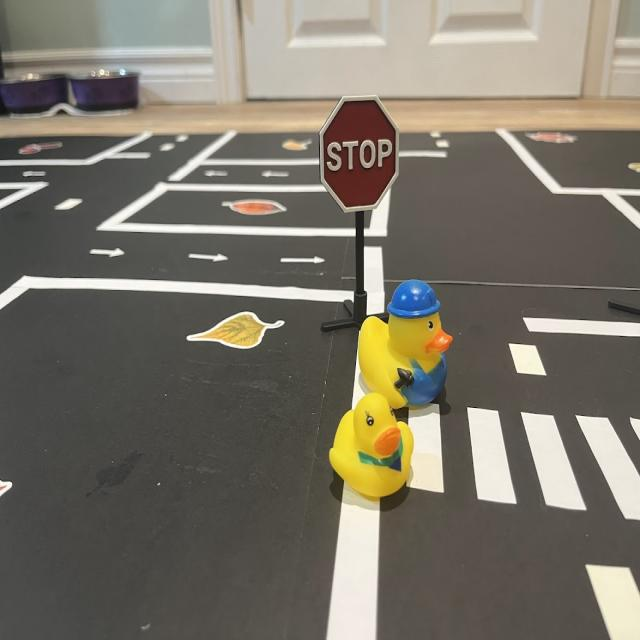duck_regular: (330, 397, 415, 499)
duck_specialty: (360, 281, 453, 404)
road_crosswalk: (402, 393, 640, 530)
road_oneway: (276, 253, 329, 272), (183, 252, 232, 266), (89, 245, 127, 263), (263, 167, 292, 183), (204, 168, 232, 182), (19, 171, 52, 179)
sign_stop: (320, 98, 400, 216)
